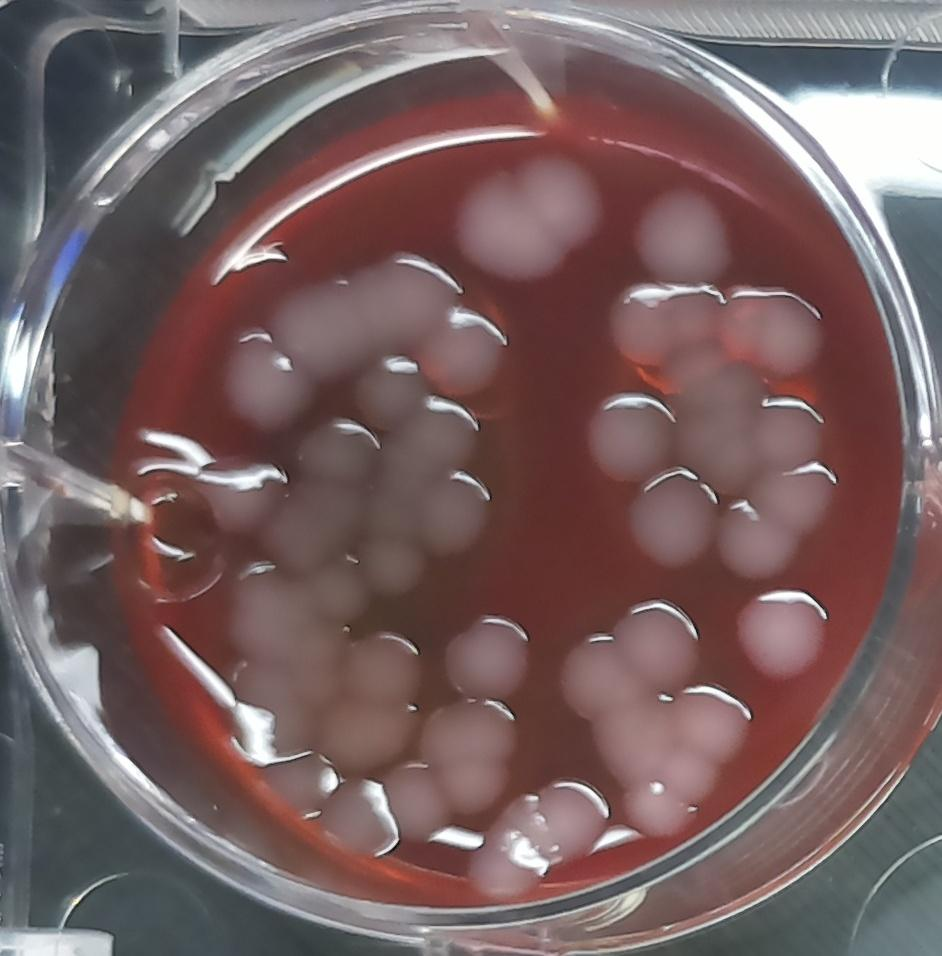valgino: (448, 144, 604, 284), (463, 771, 614, 900), (419, 693, 521, 815), (629, 183, 732, 290), (217, 323, 317, 432), (718, 285, 828, 384), (581, 384, 681, 489), (626, 471, 724, 576), (731, 585, 833, 684), (414, 306, 513, 402), (440, 607, 534, 700), (416, 467, 500, 560), (350, 352, 431, 433)
